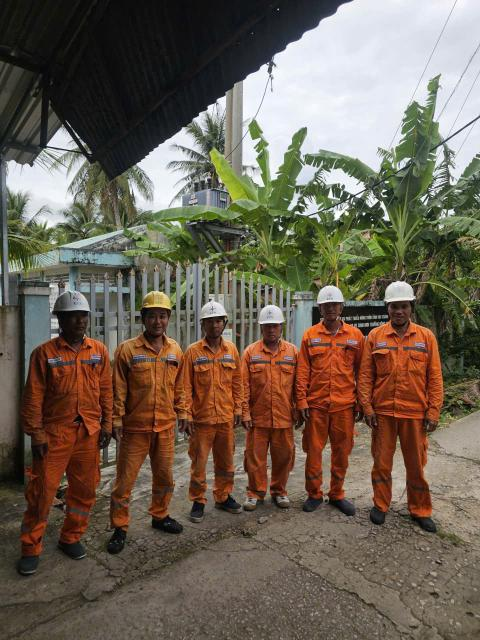helmet: (43, 285, 98, 325), (311, 274, 353, 308), (136, 286, 176, 313), (255, 303, 291, 326), (380, 284, 421, 303), (200, 298, 231, 320)
shoes: (101, 521, 139, 559), (144, 511, 188, 540), (52, 535, 93, 566), (401, 510, 439, 538), (331, 491, 362, 522), (210, 490, 245, 516), (363, 501, 393, 530), (183, 494, 210, 524), (10, 549, 38, 572), (236, 489, 261, 512), (303, 490, 325, 513), (271, 490, 295, 506)
